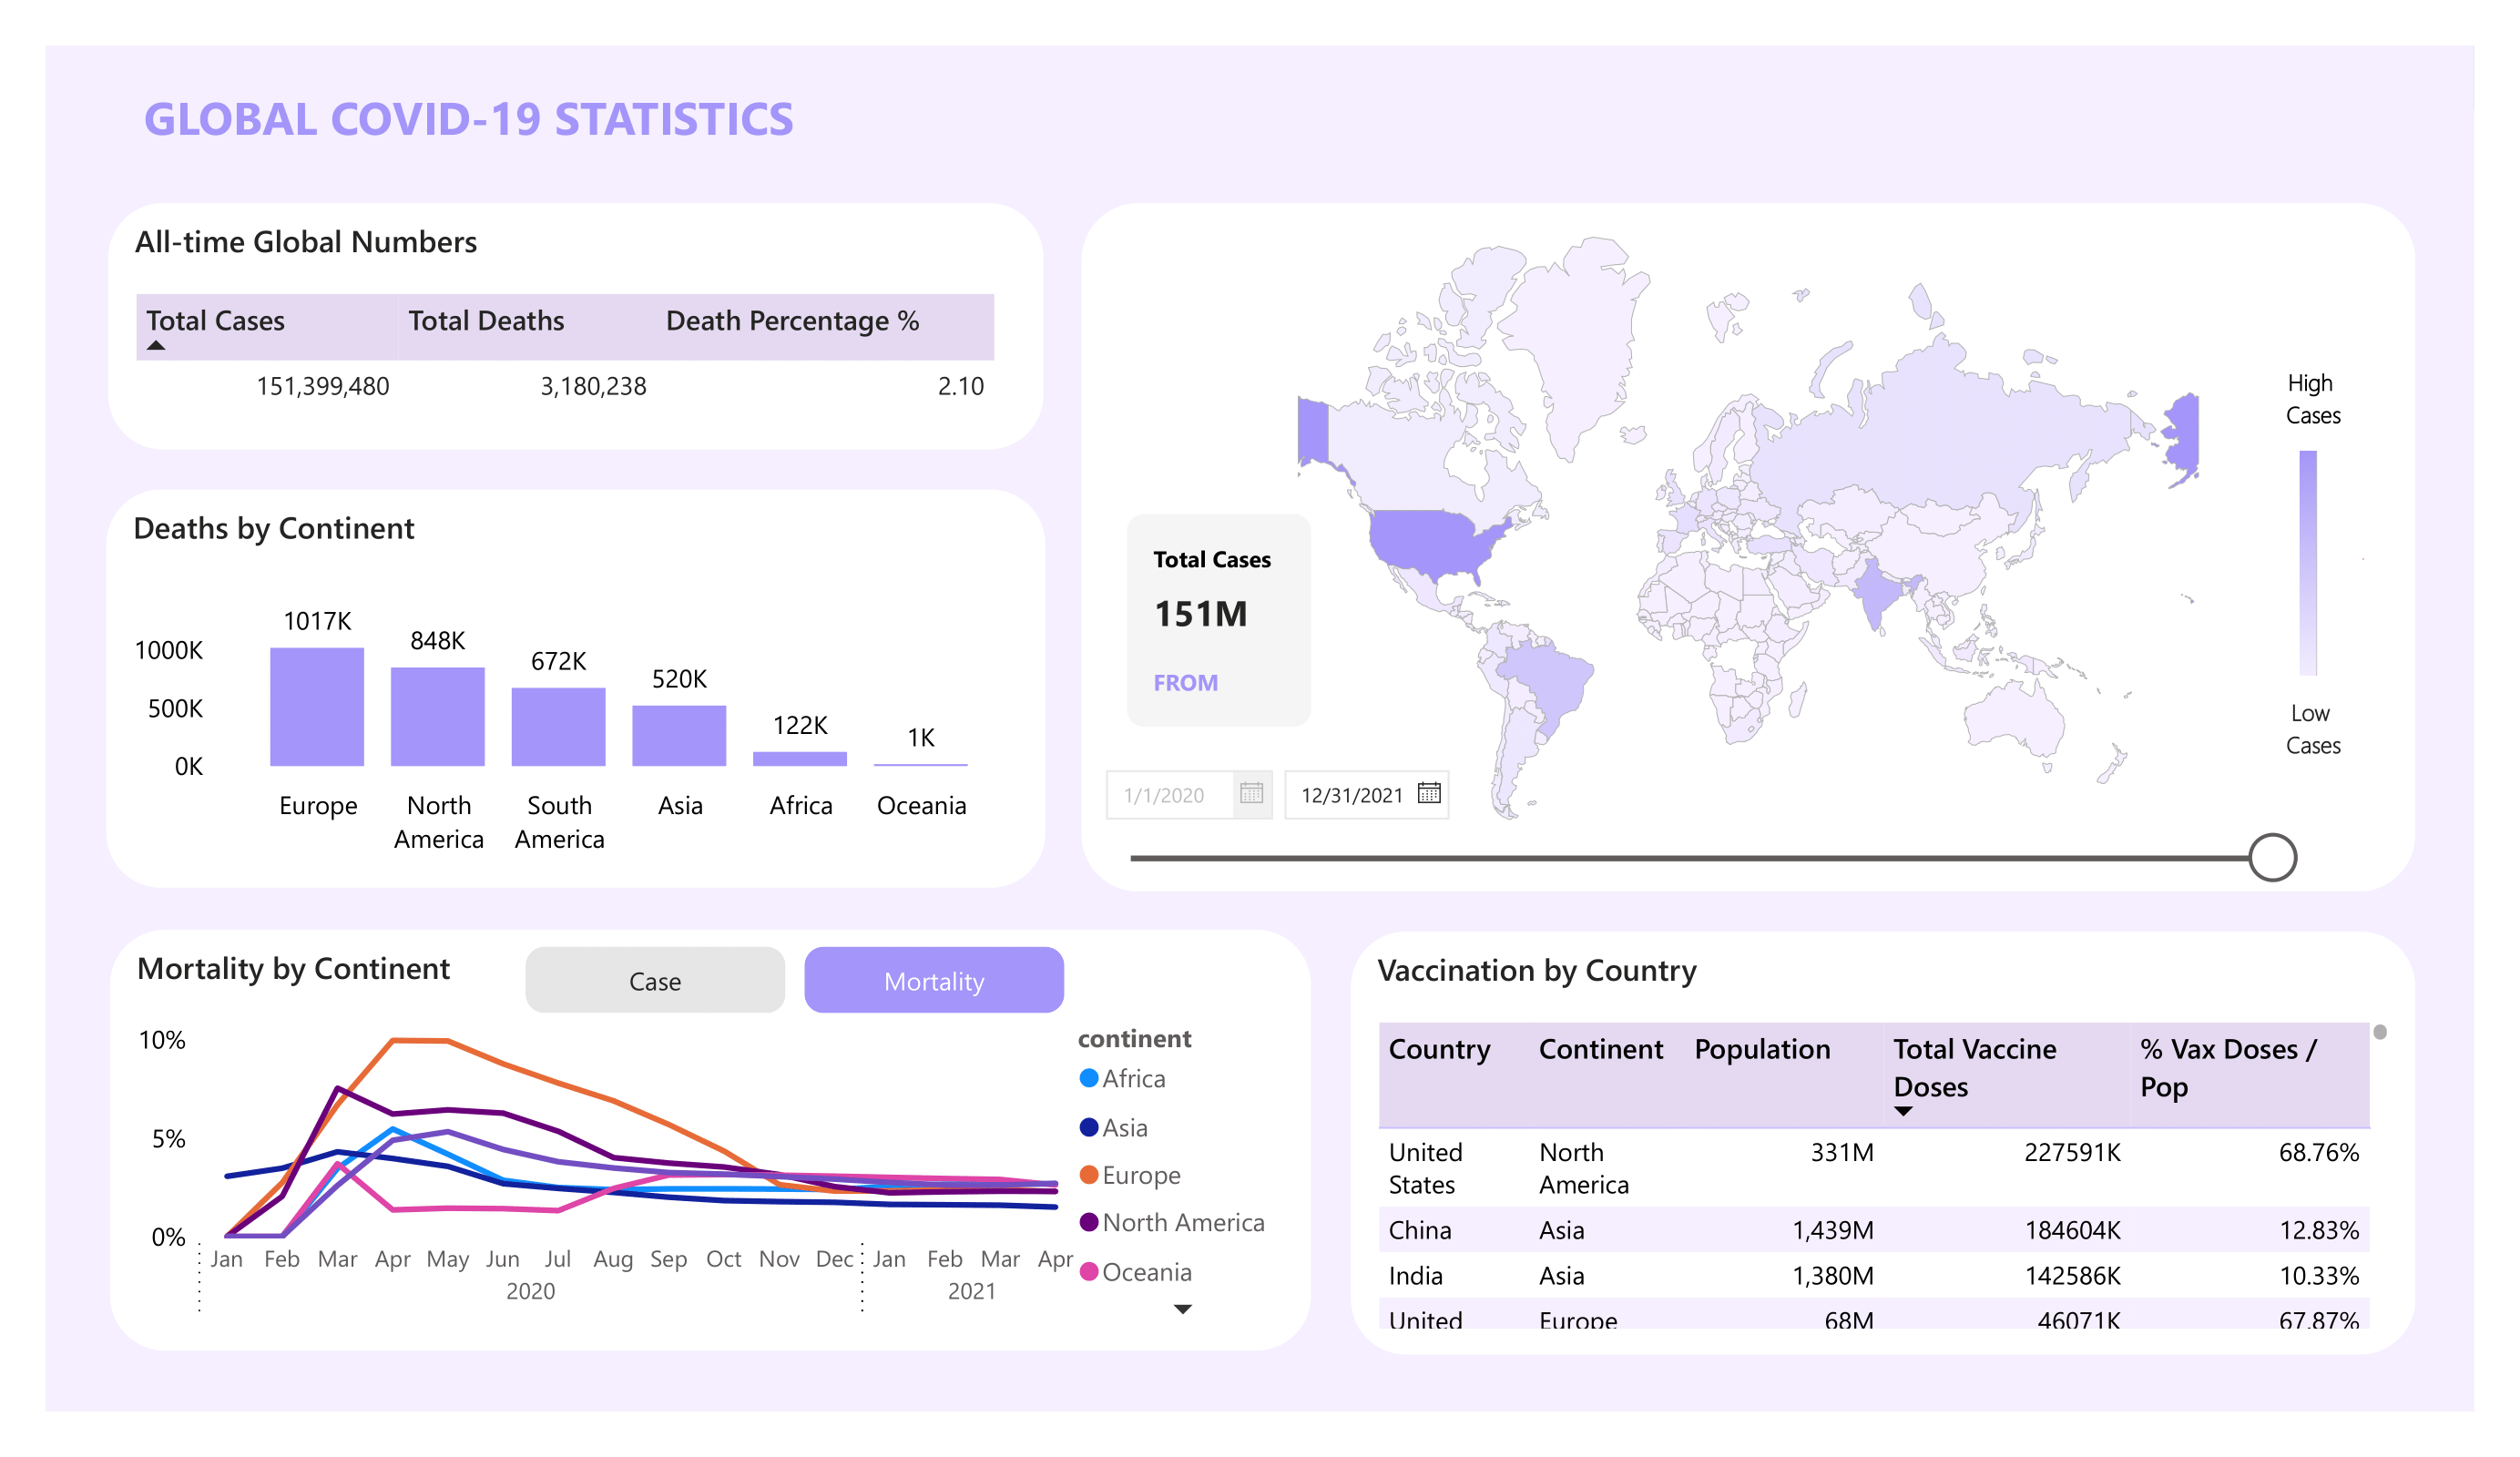

The dashboard page shown, as its layout file describes it:
{"tool":"powerbi","page":{"name":"Page 1","canvas":[1280,720],"ordinal":0},"visuals":[{"type":"textbox","box":[46.7,16.5,397.9,52.1],"z":0},{"type":"tableEx","title":"All-time Global Numbers","fields":{"Values":["Global_Numbers.Total_case","Global_Numbers.Total_deaths","Global_Numbers.Deaths_percent"]},"box":[31.6,82.3,495.4,131.7],"z":1000},{"type":"columnChart","title":"Deaths by Continent","fields":{"Category":["InfectionByContinent.continent"],"Y":["Max(InfectionByContinent.Total_Deaths_Continent)"]},"box":[31.2,232.5,496.2,212.5],"z":2000},{"type":"lineChart","title":"Case Trend by Continent","fields":{"Series":["InfectionByContinent.continent"],"Y":["Max(InfectionByContinent.Total_Cases_Continent)"],"Category":["Date.Date Hierarchy.Year","Date.Date Hierarchy.Month"]},"box":[32.5,465.6,635.2,225],"z":4000},{"type":"bookmarkNavigator","box":[252.6,475.2,283.9,34.9],"z":5000},{"type":"shapeMap","fields":{"Category":["InfectionByLocation.Location"],"Value":["Max(InfectionByLocation.HighestInfectionCount)"]},"box":[546,82.5,702.5,363],"z":6000},{"type":"image","box":[1173.4,209.2,62.5,127.5],"z":7000},{"type":"textbox","box":[1154.9,162.6,81.4,47.1],"z":8000},{"type":"textbox","box":[1154.9,336.9,81.4,47.1],"z":9000},{"type":"slicer","fields":{"Values":["Date.Date"]},"box":[546,372,649,74],"z":10000},{"type":"cardVisual","fields":{"Data":["Max(InfectionByLocation.Global_Total_Cases)"]},"box":[568.8,246.2,98.8,113.8],"z":11000},{"type":"tableEx","title":"Vaccination by Country","fields":{"Values":["PercentPopulationVaccinated.location","PercentPopulationVaccinated.continent","PercentPopulationVaccinated.population","Max(PercentPopulationVaccinated.Rolling_Vaccinations)","Max(PercentPopulationVaccinated.Percent_Vaccinated)"]},"box":[686.9,465.6,563,225],"z":12000}]}

Visuals, with their boxes on the page's 1280x720 design canvas (x1, y1, x2, y2). These are canvas units, not pixel positions in the 2520x1457 screenshot, which may show the page scaled, cropped or inside an application window:
textbox: [47, 16, 445, 69]
"All-time Global Numbers" tableEx: [32, 82, 527, 214]
"Deaths by Continent" columnChart: [31, 232, 527, 445]
"Case Trend by Continent" lineChart: [32, 466, 668, 691]
bookmarkNavigator: [253, 475, 536, 510]
shapeMap - InfectionByLocation.Location x Max(InfectionByLocation.HighestInfectionCount): [546, 82, 1248, 446]
image: [1173, 209, 1236, 337]
textbox: [1155, 163, 1236, 210]
textbox: [1155, 337, 1236, 384]
slicer - Date.Date: [546, 372, 1195, 446]
cardVisual - Max(InfectionByLocation.Global_Total_Cases): [569, 246, 668, 360]
"Vaccination by Country" tableEx: [687, 466, 1250, 691]
